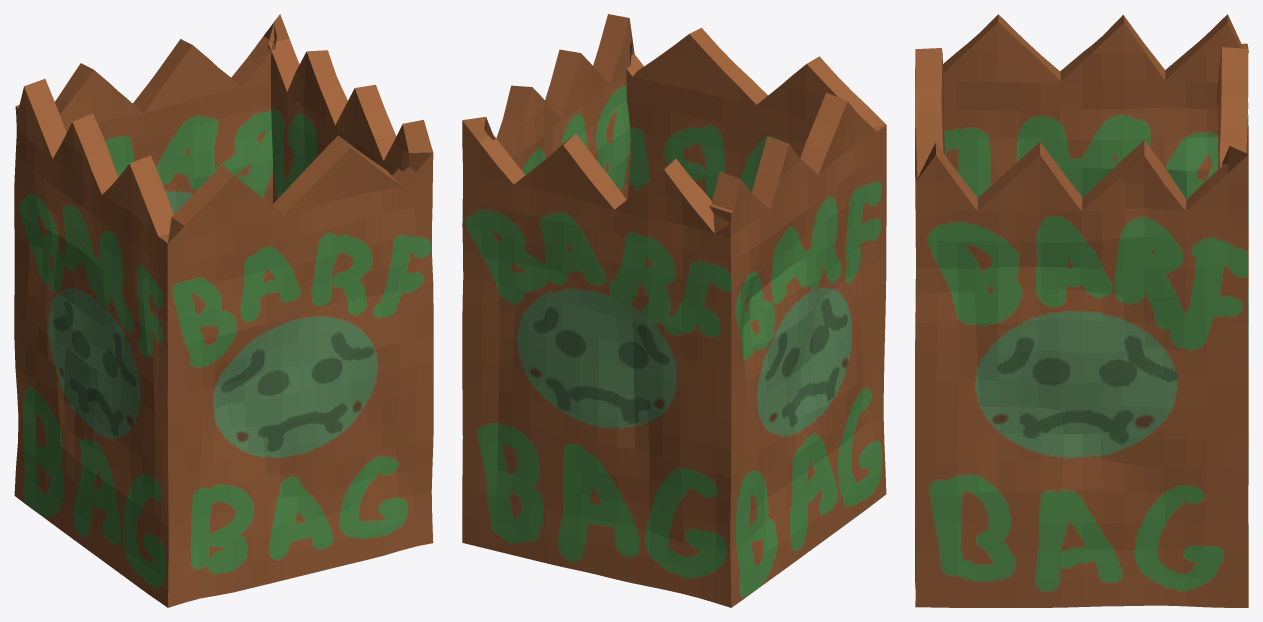
Rendered from Barf_bag.fbx.
3 renders of one model, left to right at view 1: azimuth 30°, elevation 25°; view 2: azimuth 150°, elevation 25°; view 3: azimuth 270°, elevation 25°, orthographic. The views are drawn at different scales.
Parts seen in each view (by area): view 1: Cube; view 2: Cube; view 3: Cube.
Part boxes in pixels (<box>): Cube: <box>14,14,433,607</box>; Cube: <box>462,14,886,607</box>; Cube: <box>915,14,1248,607</box>.
Bounding box in the file's own units: 200 × 302 × 200.
1 material, 1 textured.
